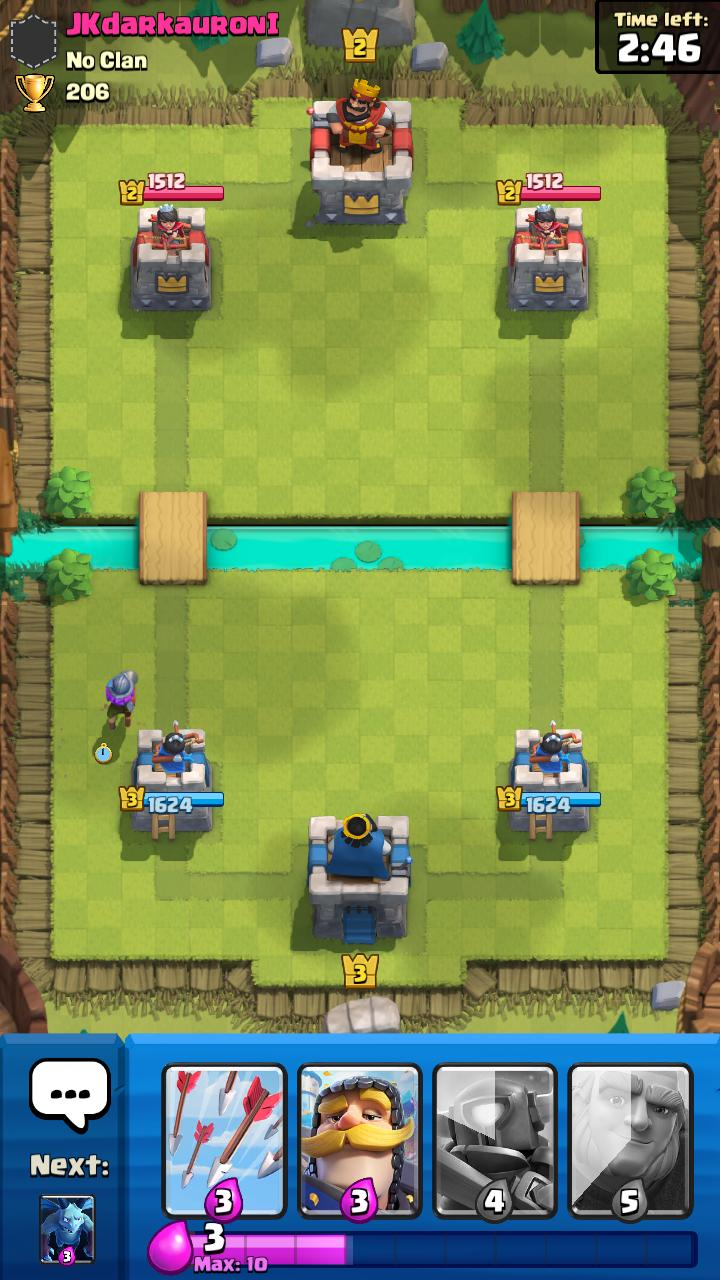ally: (106, 670, 138, 730)
